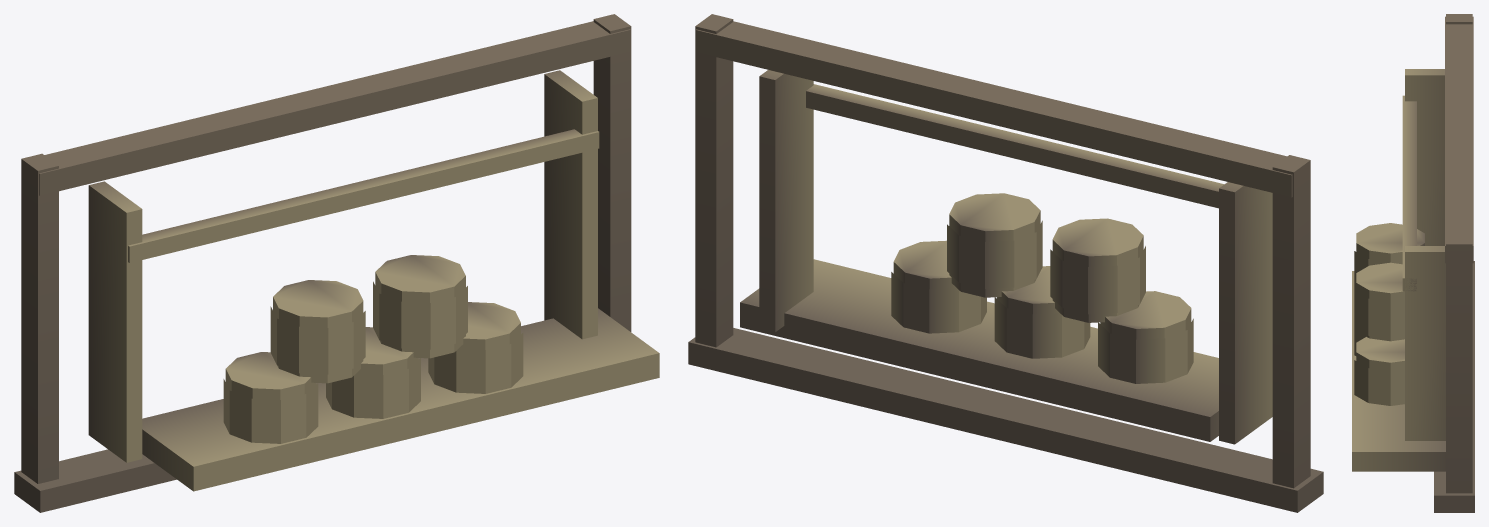
File: facade_rice.glb
3 views of the same model, side by side, from view 1: azimuth 30°, elevation 25°; view 2: azimuth 150°, elevation 25°; view 3: azimuth 270°, elevation 25° (orthographic). The views are drawn at different scales.
Parts seen in each view (by area): view 1: facade_rice; view 2: facade_rice; view 3: facade_rice.
Part boxes in pixels (x1,y1,x2,y2): facade_rice: (14,14,659,512); facade_rice: (688,14,1323,512); facade_rice: (1352,14,1474,512).
Bounding box in the file's own units: 4.6 × 2.44 × 1.02.
